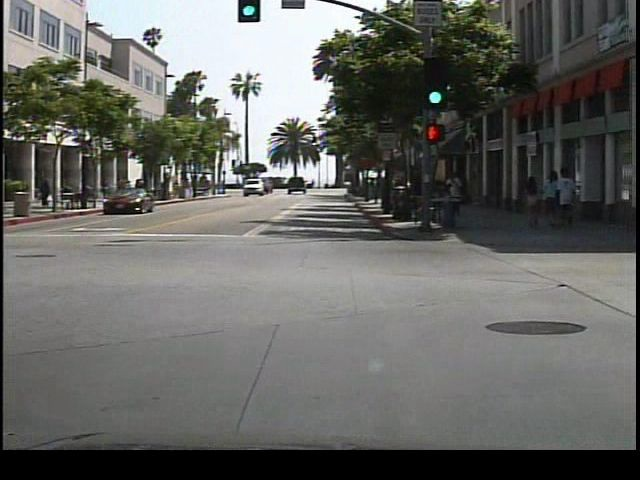person: (449, 165, 477, 220), (42, 174, 58, 211)
